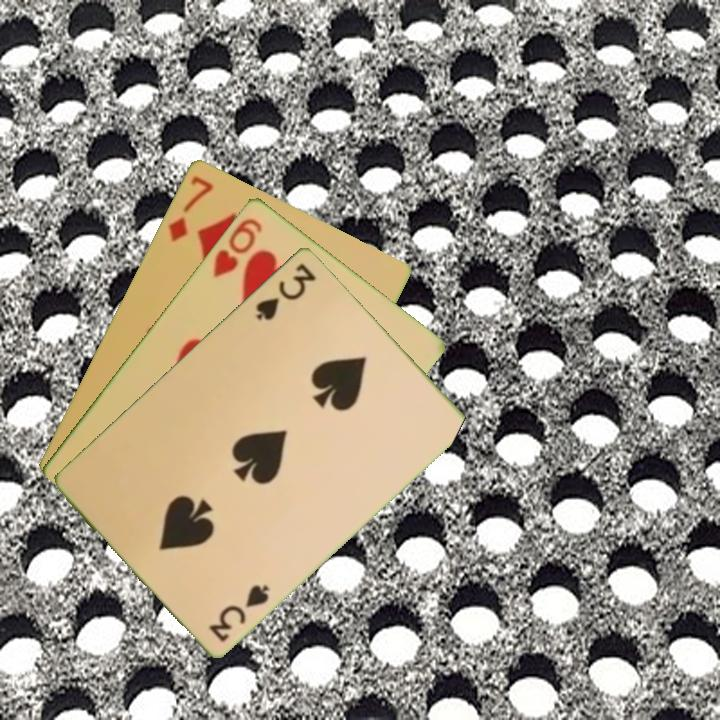3s: (205, 580, 273, 645), (252, 259, 319, 323)
6h: (209, 214, 266, 280)
7d: (164, 172, 216, 245)
